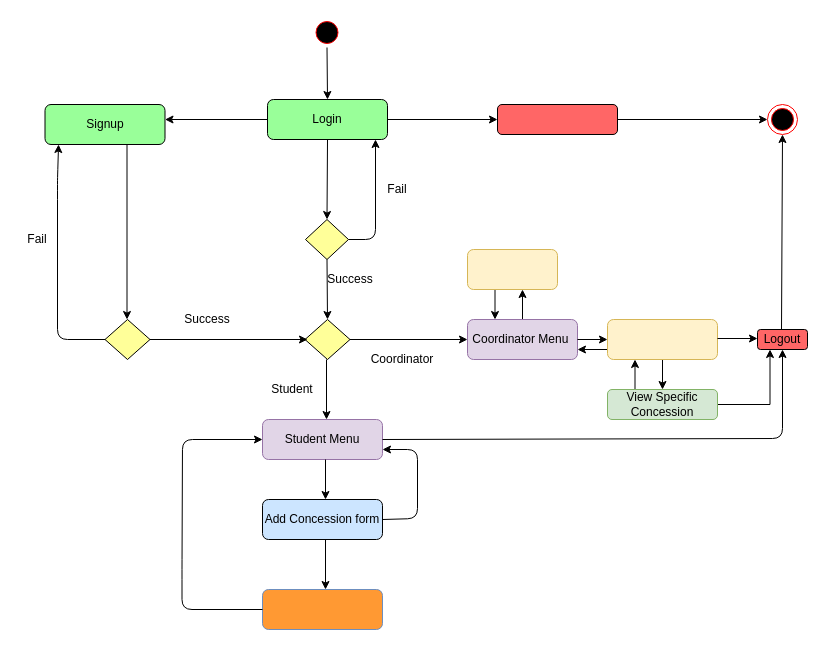
The diagram is 825 pixels wide and 647 high, and some of its shapes have lost their labels. Each missing label, with the centre of its shape:
"Add Edit View Courses" goes at pixel 512 269.
"Submit Concession Form" goes at pixel 322 609.
"User cancelled login" goes at pixel 557 119.
"View Concessions" goes at pixel 662 339.
